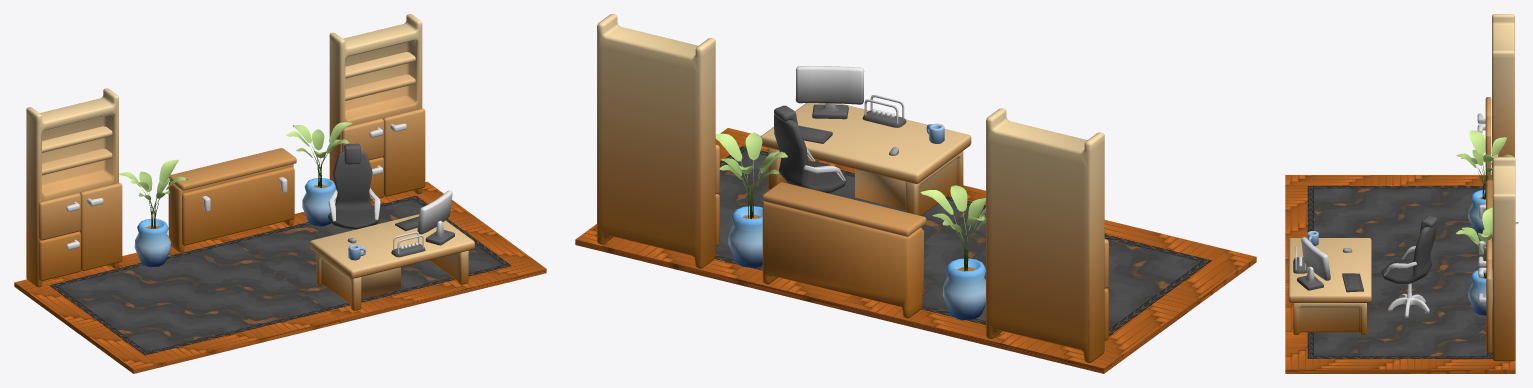
File: boss_office (2).fbx
The picture shows the model from 3 angles, left to right: view 1: azimuth 30°, elevation 25°; view 2: azimuth 150°, elevation 25°; view 3: azimuth 270°, elevation 25°; orthographic projection. The views are drawn at different scales.
Visible parts, largest first — view 1: Boss_Office_LOD0; view 2: Boss_Office_LOD0; view 3: Boss_Office_LOD0.
Boxes of the visible parts, x1=… form: Boss_Office_LOD0: x1=14, y1=14, x2=546, y2=373; Boss_Office_LOD0: x1=575, y1=14, x2=1256, y2=373; Boss_Office_LOD0: x1=1285, y1=14, x2=1518, y2=373.
Size of what is drawn, in the model's own units: 1000 by 410 by 507.
5 materials, 4 textured.
